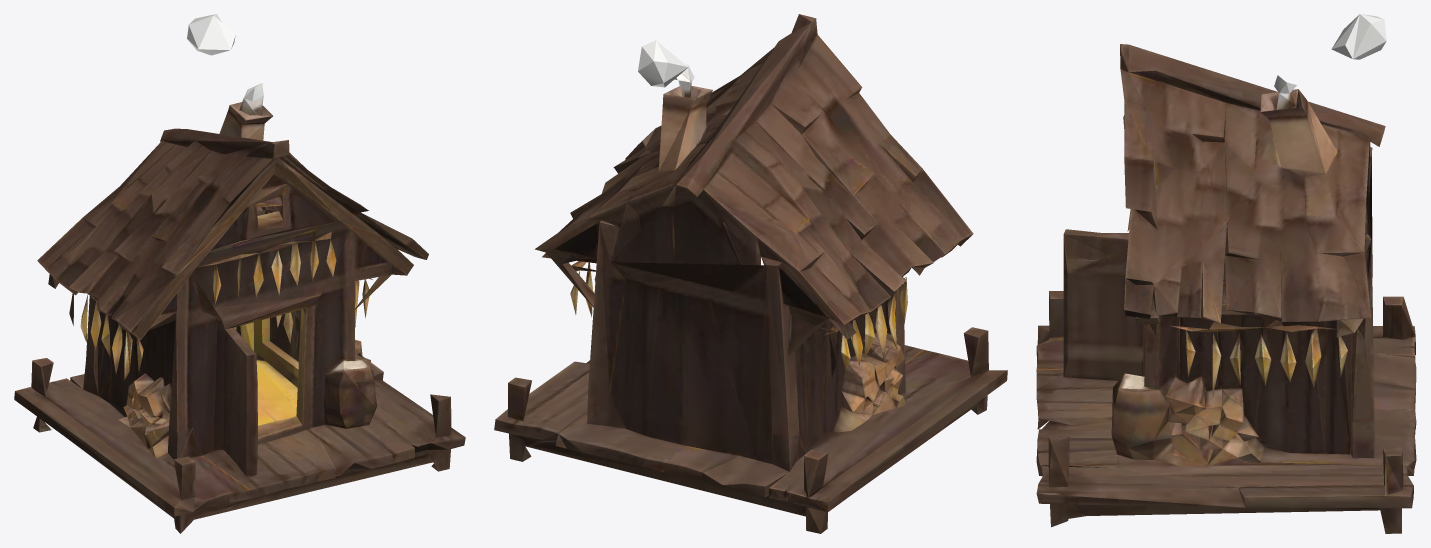
The model's file is smokehouse.glb.
The picture shows the model from 3 angles, left to right: view 1: azimuth 30°, elevation 25°; view 2: azimuth 150°, elevation 25°; view 3: azimuth 270°, elevation 25°; orthographic projection. The views are drawn at different scales.
Parts seen in each view (by area): view 1: smokehouse; view 2: smokehouse; view 3: smokehouse.
Boxes of the visible parts, x1,y1,x2,y2 form: smokehouse: (14, 14, 465, 533); smokehouse: (494, 14, 1007, 533); smokehouse: (1036, 14, 1416, 533).
Bounding box in the file's own units: 1.58 × 1.9 × 1.44.
Materials: 1 (1 with a texture image).
